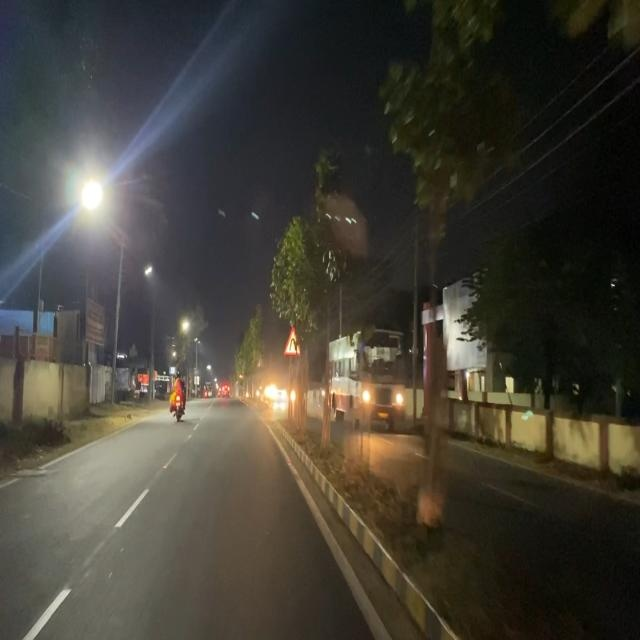bien_nguy_hiem: (283, 325, 302, 359)
